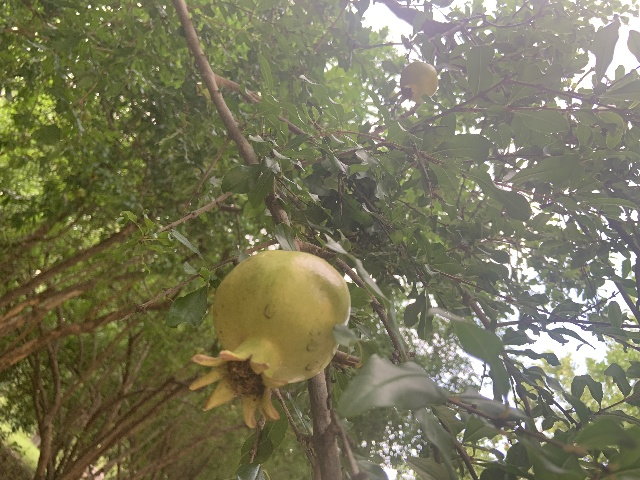mid-growth: (189, 248, 350, 428), (393, 61, 437, 104)
